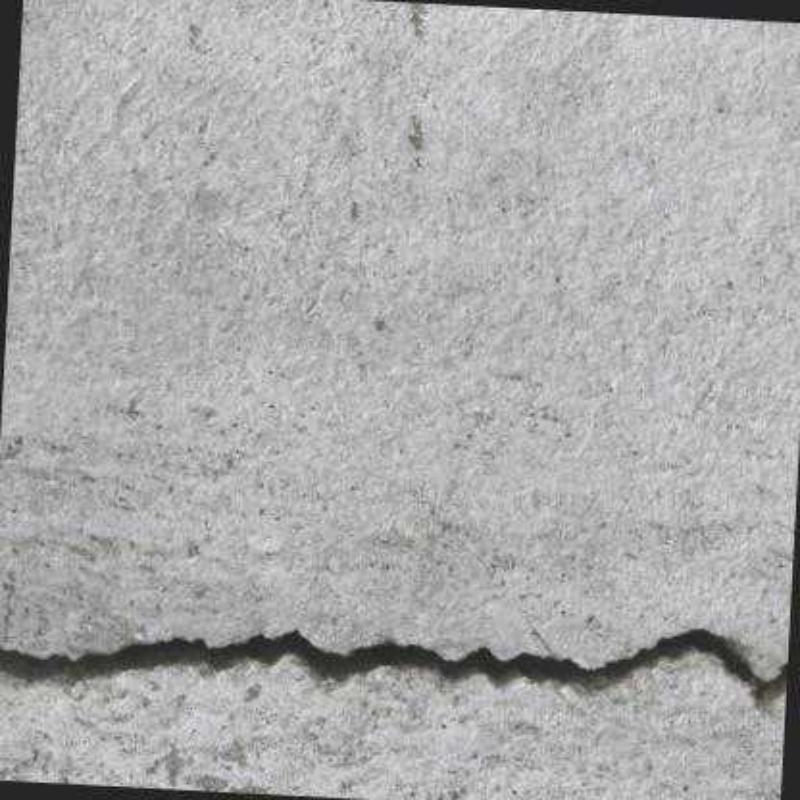crack: (0, 625, 787, 710)
